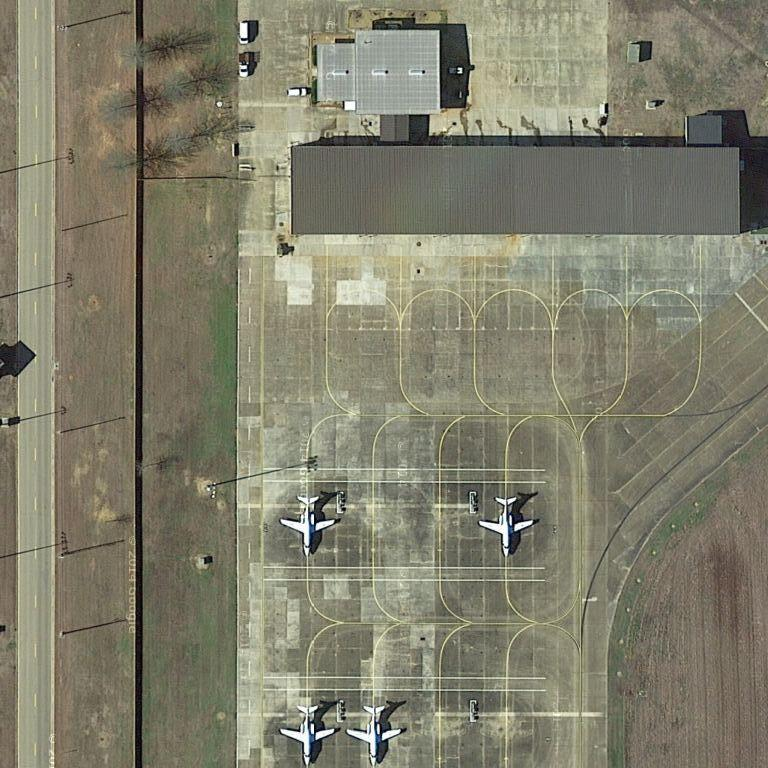plane: (278, 490, 341, 559), (276, 697, 336, 768), (343, 697, 402, 766), (482, 493, 537, 559)
